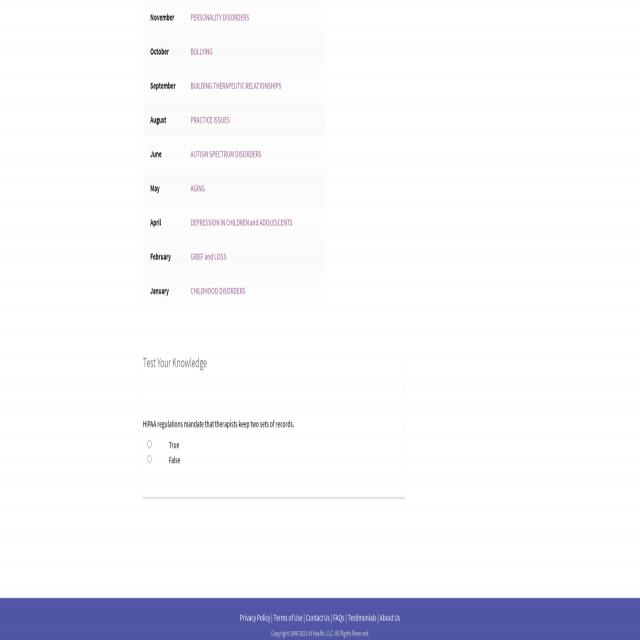field: (146, 456, 182, 467), (147, 441, 179, 452)
